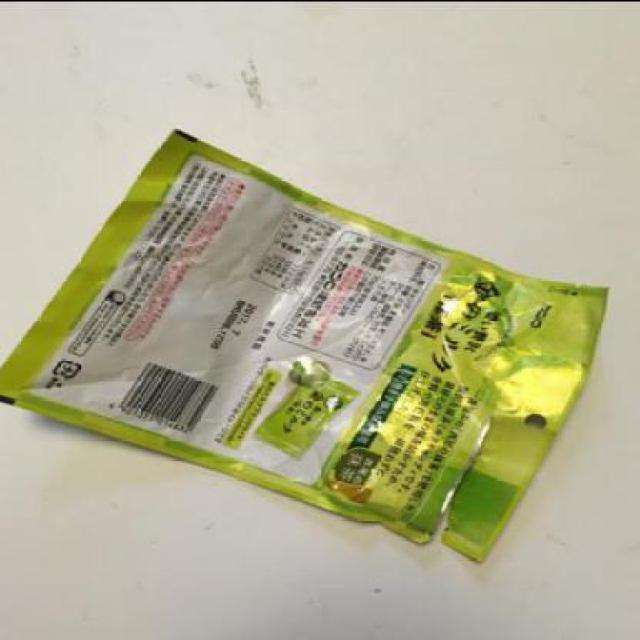PLASTIC: (2, 127, 610, 558)
